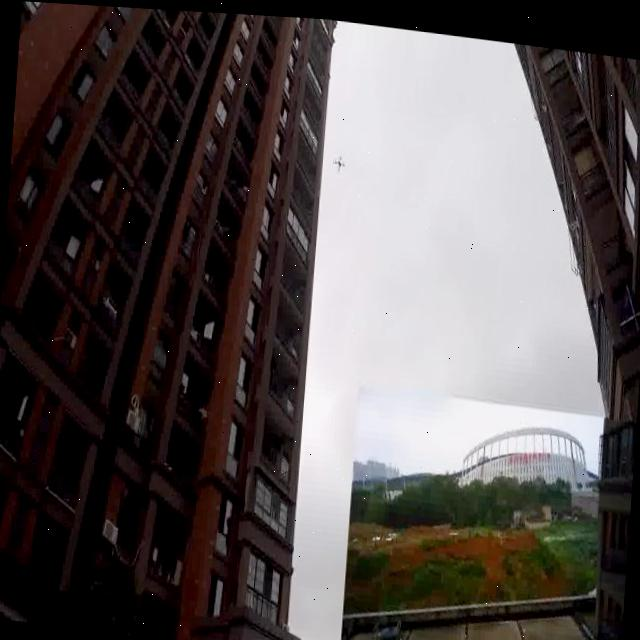drone: (331, 146, 348, 172)
